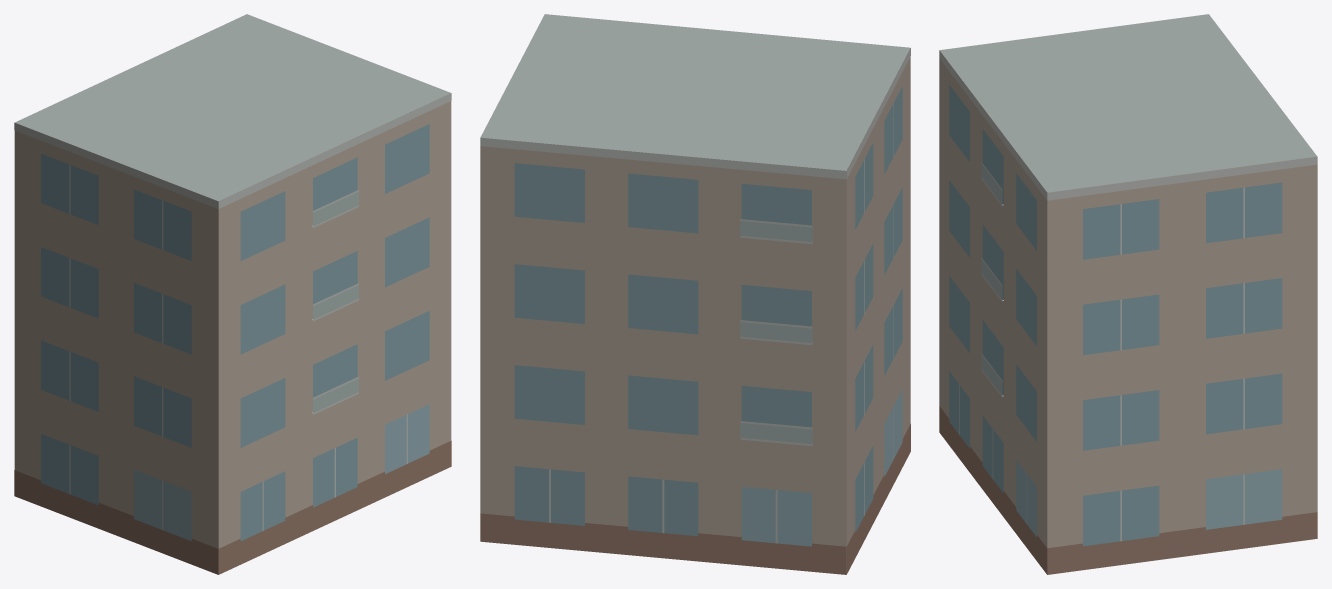
The model's file is survey-upis-32615375.glb.
The picture shows the model from 3 angles, left to right: view 1: azimuth 30°, elevation 25°; view 2: azimuth 150°, elevation 25°; view 3: azimuth 270°, elevation 25°; orthographic projection. The views are drawn at different scales.
Visible parts, largest first — view 1: survey-upis-32615375.tmp; view 2: survey-upis-32615375.tmp; view 3: survey-upis-32615375.tmp.
Boxes of the visible parts, left/top/right/bottom form: survey-upis-32615375.tmp: left=14, top=14, right=451, bottom=574; survey-upis-32615375.tmp: left=480, top=14, right=910, bottom=574; survey-upis-32615375.tmp: left=939, top=14, right=1317, bottom=574.
Bounding box in the file's own units: 11.75 × 11.7 × 10.5.
